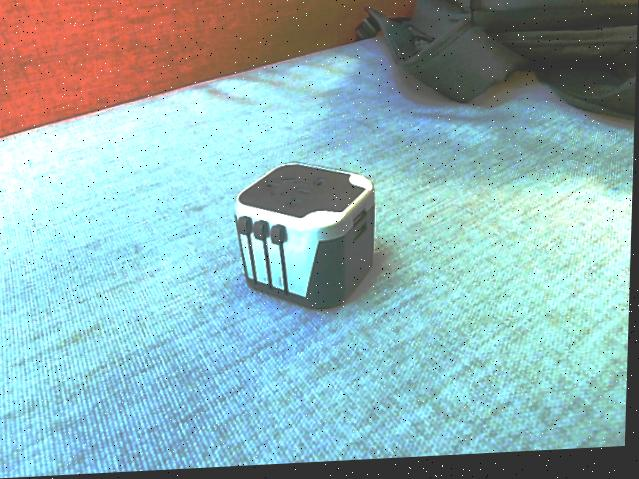adapter: (233, 162, 379, 316)
